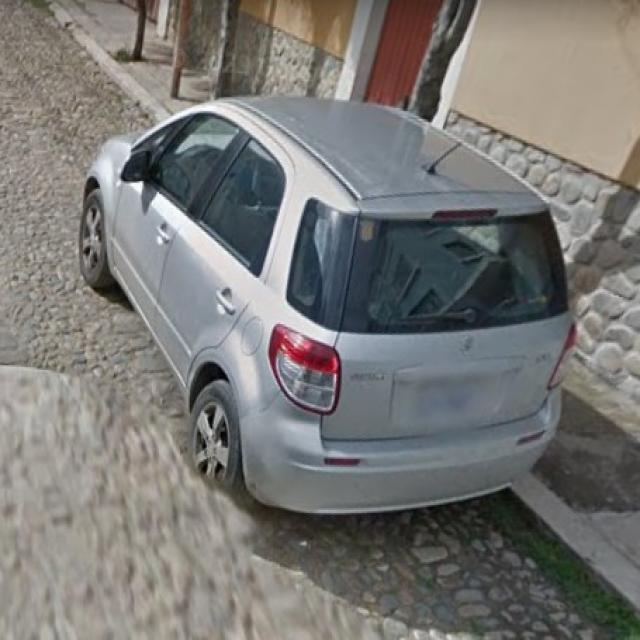Car: (83, 54, 572, 519)
